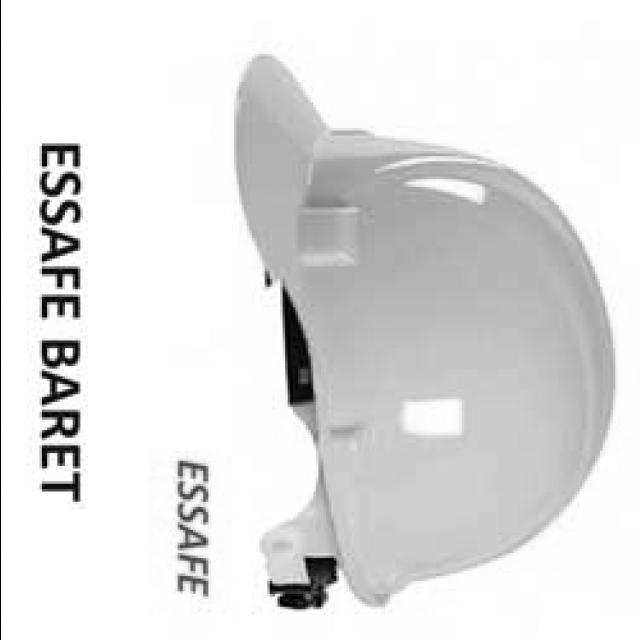safety_helmet: (230, 54, 614, 607)
